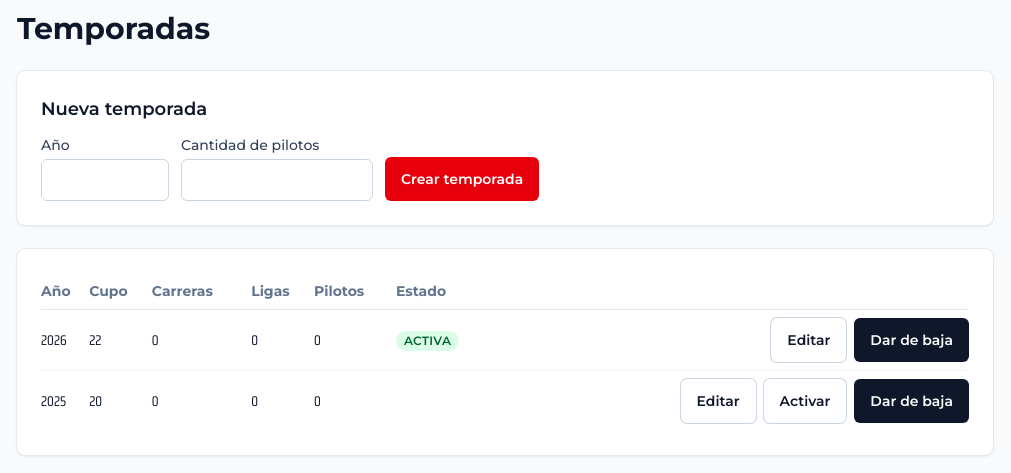
Scenario: SeasonsPage › edita una temporada existente y el cambio persiste
Click the button with aria-label "Editar 2025" at (718,401), box [680, 379, 756, 423]
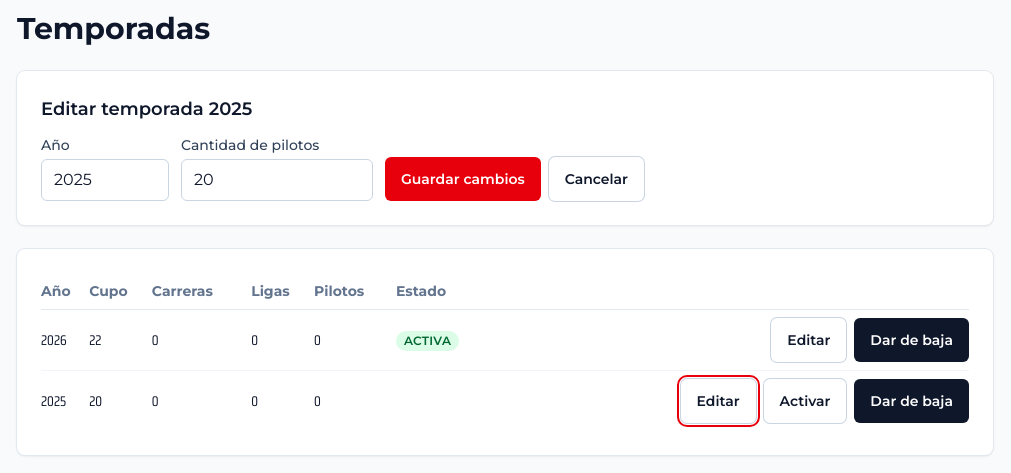
Check: the number field labelled "Año" holds "2025", box [41, 159, 169, 201]
Replace the text in the number field labelled "Cantidad de pilotos" with "24" at (277,180), box [181, 159, 373, 201]
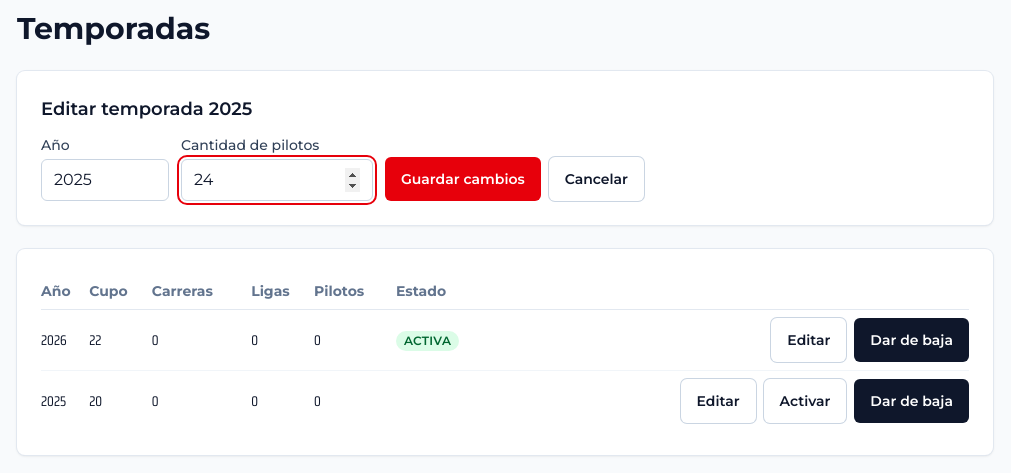
Click the button "Guardar cambios" at (463,179), box [385, 157, 541, 201]
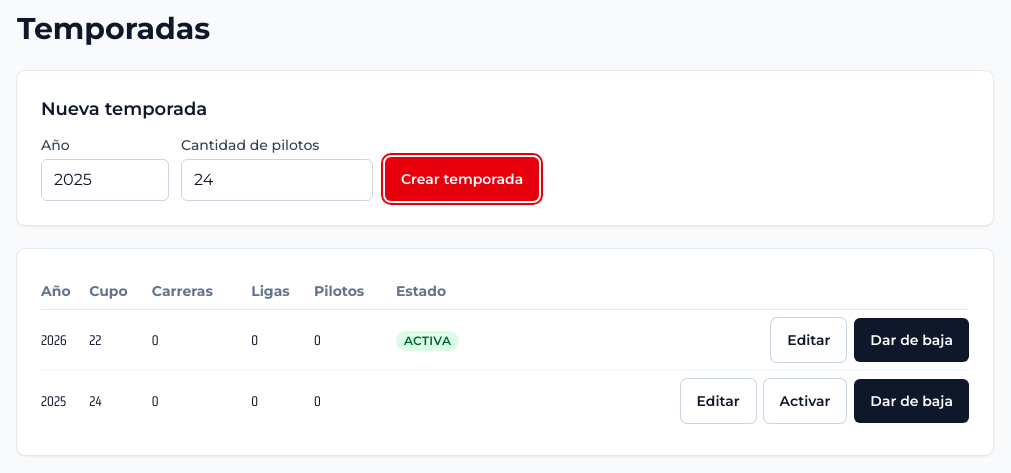
Check: the text "24" is shown, box [89, 390, 102, 412]
